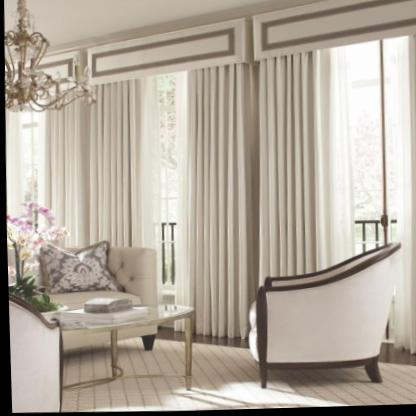Curtains: (46, 21, 247, 340), (257, 0, 416, 286)
